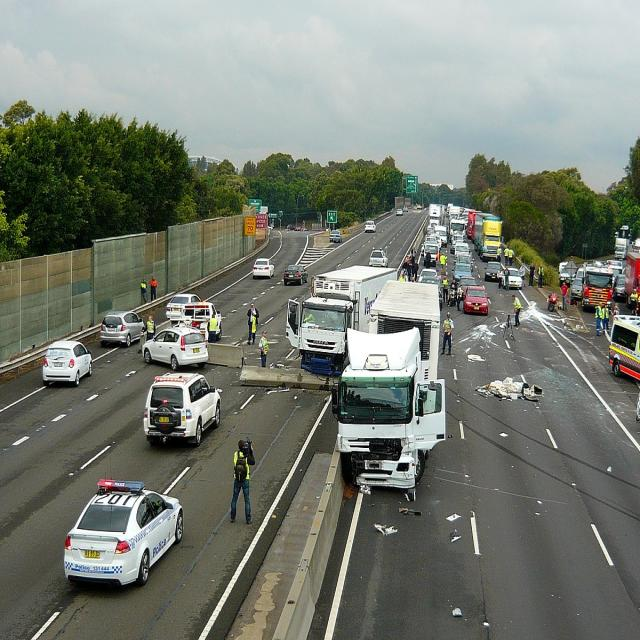Accident: (286, 265, 450, 498)
